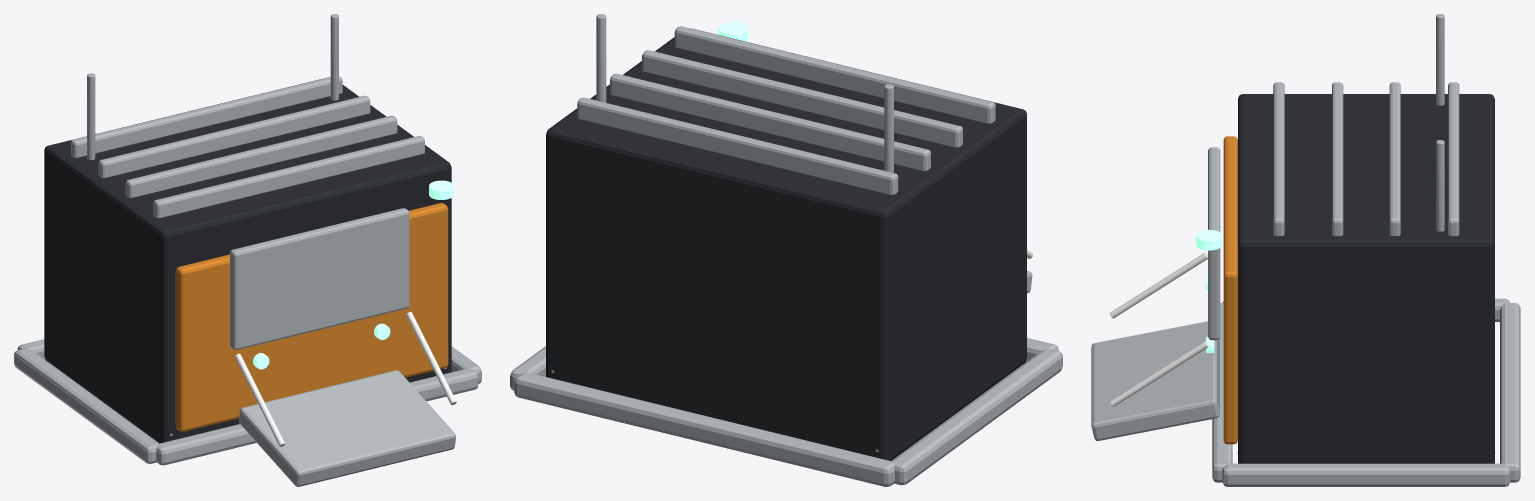
File: hub.glb
3 renders of one model, left to right at view 1: azimuth 30°, elevation 25°; view 2: azimuth 150°, elevation 25°; view 3: azimuth 270°, elevation 25°, orthographic. The views are drawn at different scales.
Parts seen in each view (by area): view 1: Main_Body; view 2: Main_Body; view 3: Main_Body, StatusLens.
Part boxes in pixels (left/top/right/bottom): Main_Body: left=14, top=14, right=481, bottom=486; Main_Body: left=510, top=14, right=1062, bottom=486; Main_Body: left=1091, top=14, right=1520, bottom=486; StatusLens: left=1195, top=229, right=1222, bottom=250.
Size of the model in its own units: 4 by 3.48 by 4.17.
